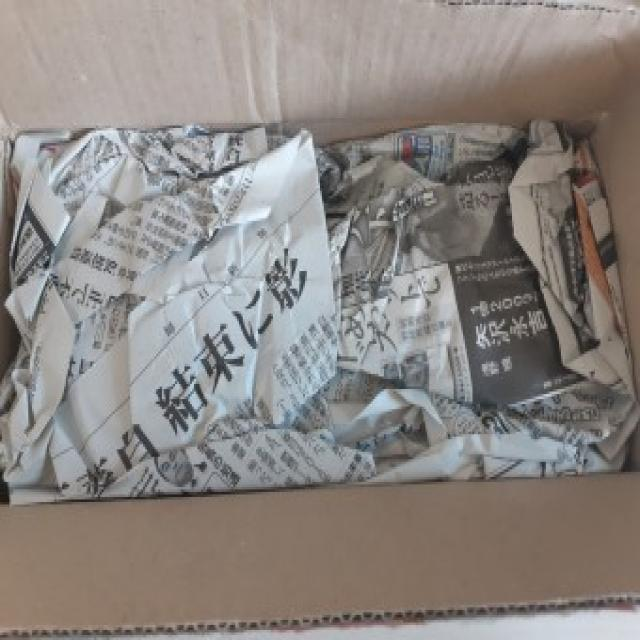Newspaper: (9, 115, 636, 485)
